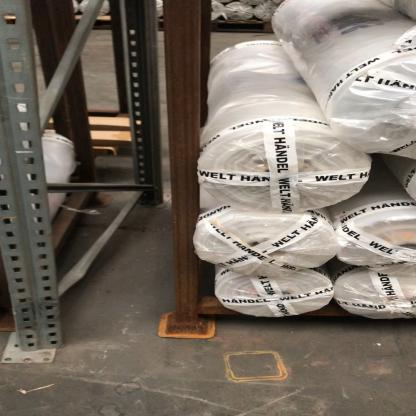vertical_damage: (7, 302, 68, 368)
